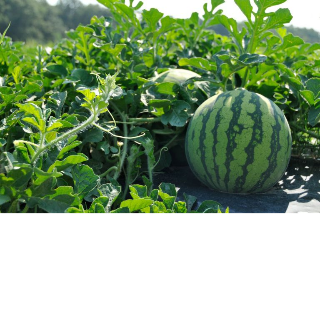dua_hau: (180, 87, 294, 196)
